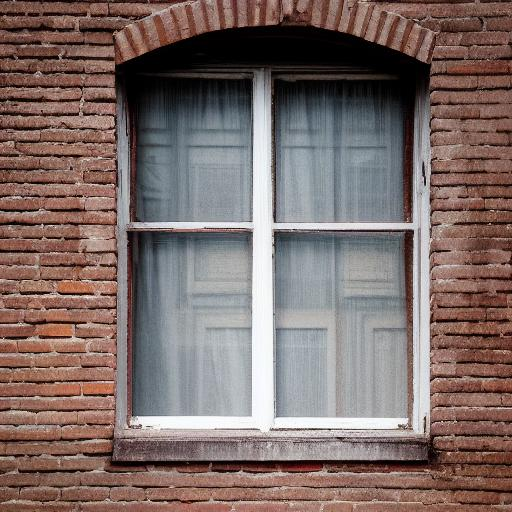Window: (111, 2, 440, 467)
